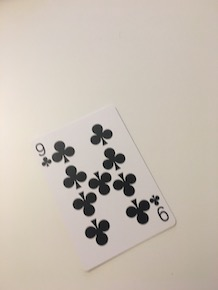NineOfClubs: (29, 103, 178, 274)
